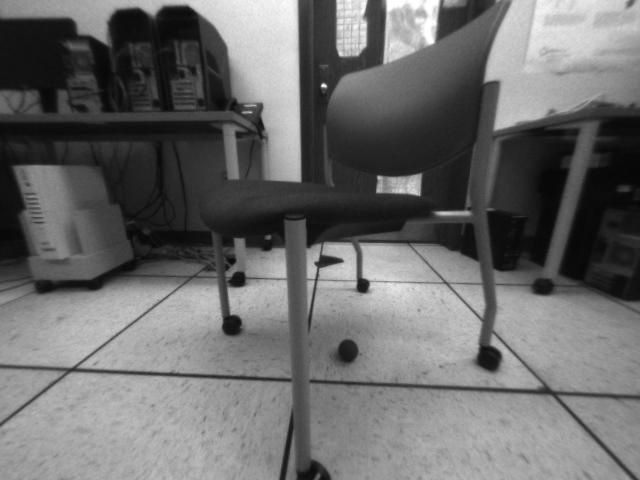dogtoy: (328, 334, 368, 368)
